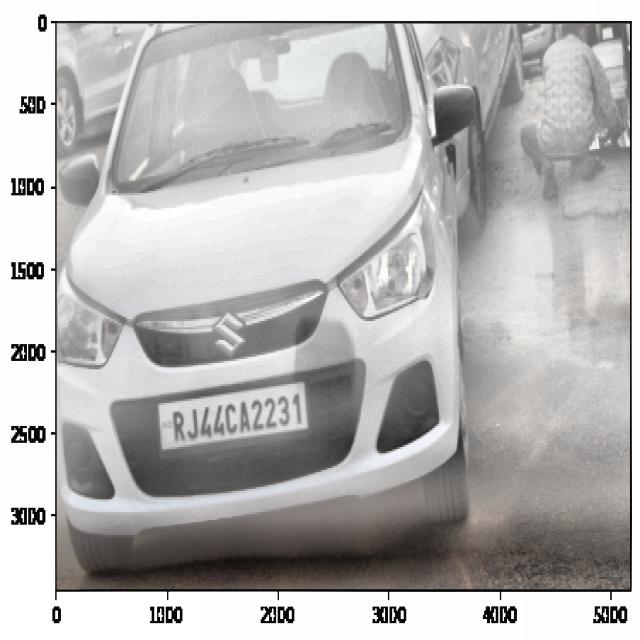license_plate: (169, 389, 306, 447)
